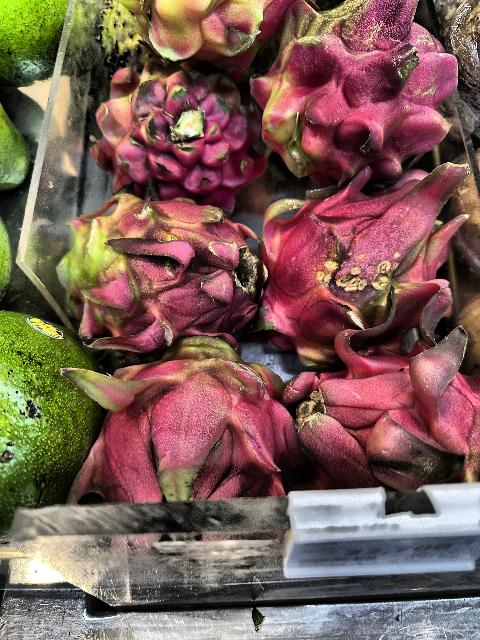buah-naga-belum-matang: (69, 341, 297, 499), (251, 167, 467, 333), (264, 1, 456, 168), (44, 203, 262, 335), (88, 66, 266, 206), (136, 0, 284, 68)
buah-naga-matang: (288, 350, 480, 486)
